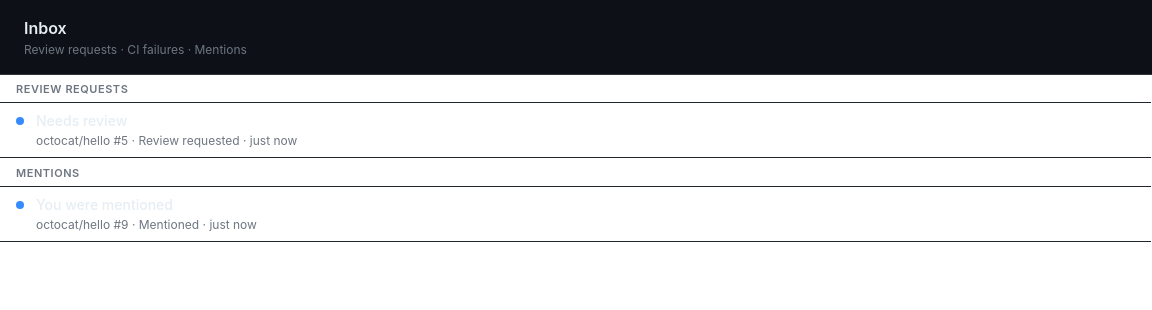
Test: InboxPage snooze shortcuts › filters inbox items with Cmd+F list search
The image size is (1152, 310).
Expected: the text "Needs review" is shown, [36,112,127,129]
Press f
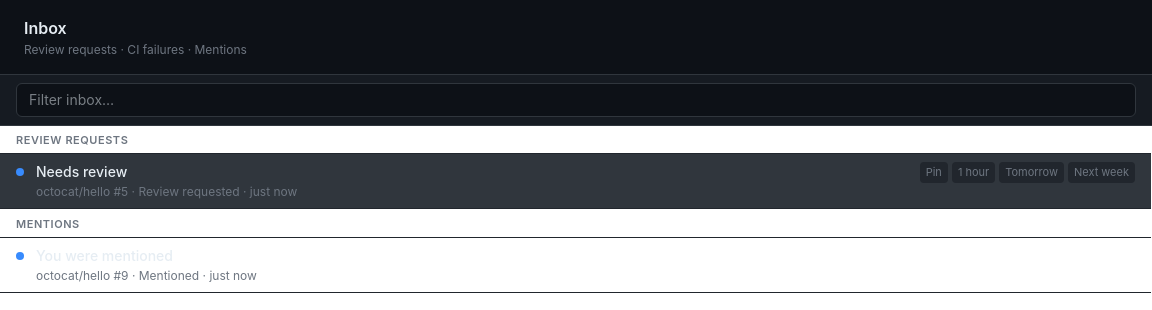
Type "mentioned" into the search field named "List search".
click(576, 100); type("mentioned")  # box [16,83,1136,117]
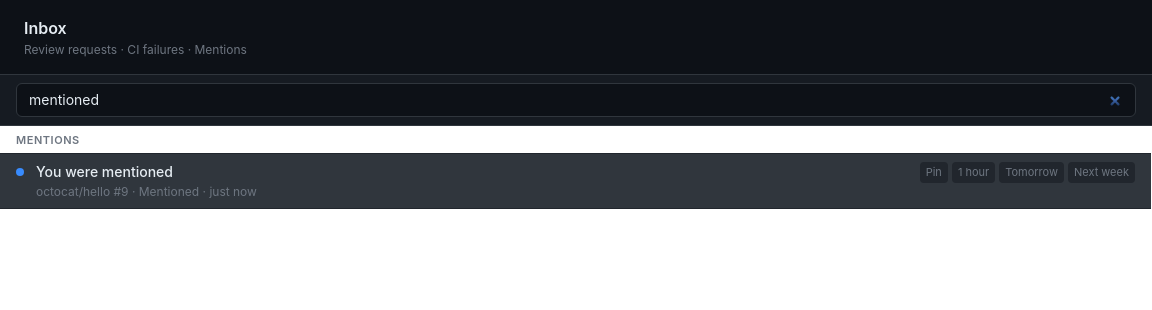
Expected: the text "You were mentioned" is shown, [36,163,173,180]
Expected: the text "Needs review" is gone
